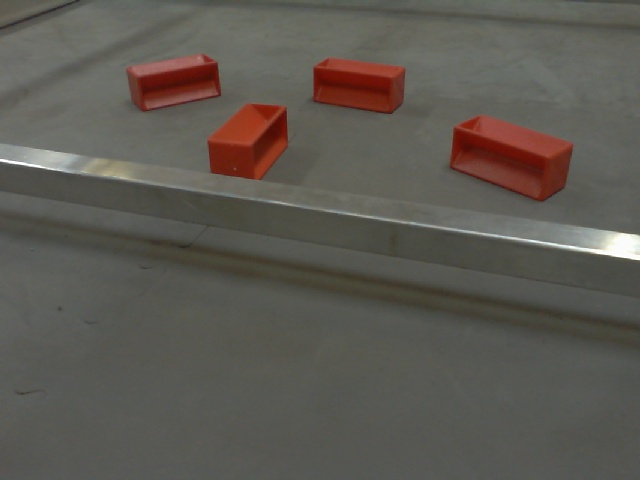RedSample: (448, 116, 573, 204), (206, 101, 293, 183), (310, 57, 409, 119), (120, 53, 224, 112)
